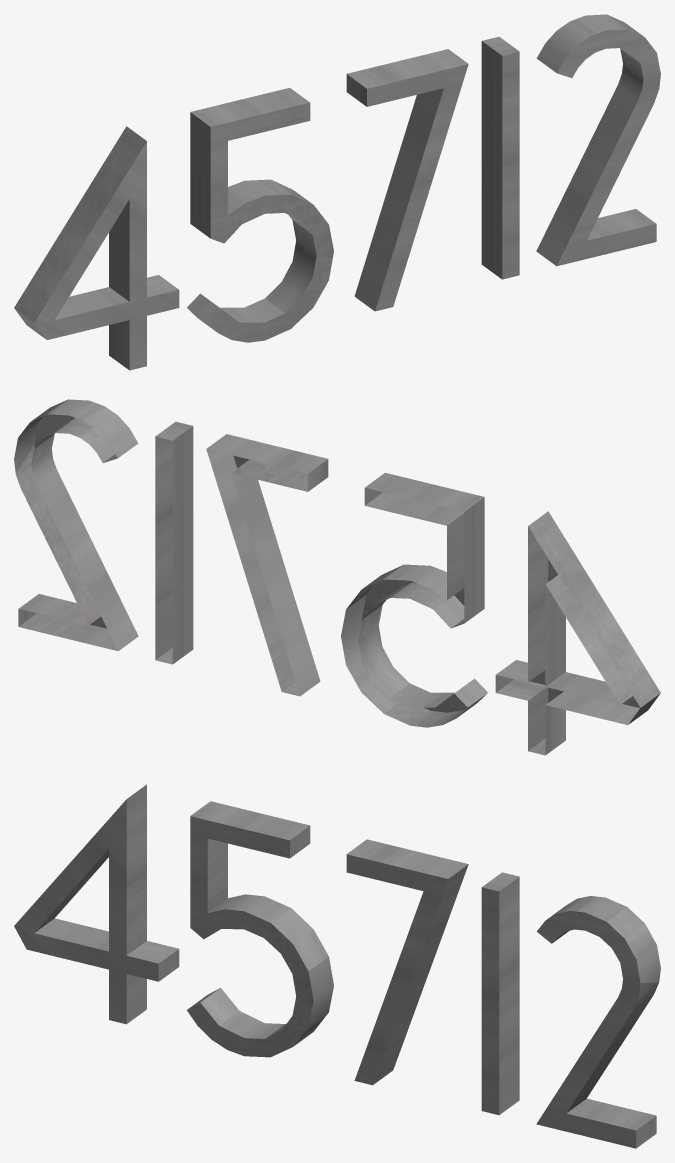
Rendered from Address.dae.
The picture shows the model from 3 angles, top to bottom: view 1: azimuth 30°, elevation 25°; view 2: azimuth 150°, elevation 25°; view 3: azimuth 330°, elevation 25°; orthographic projection.
Visible parts, largest first — view 1: Address; view 2: Address; view 3: Address.
Boxes of the visible parts, x1,y1,x2,y2 form: Address: (14,14,660,370); Address: (14,399,660,755); Address: (14,784,660,1148).
Size of the model in its own units: 0.6871 by 0.0388 by 0.2393.
1 material, 1 textured.
